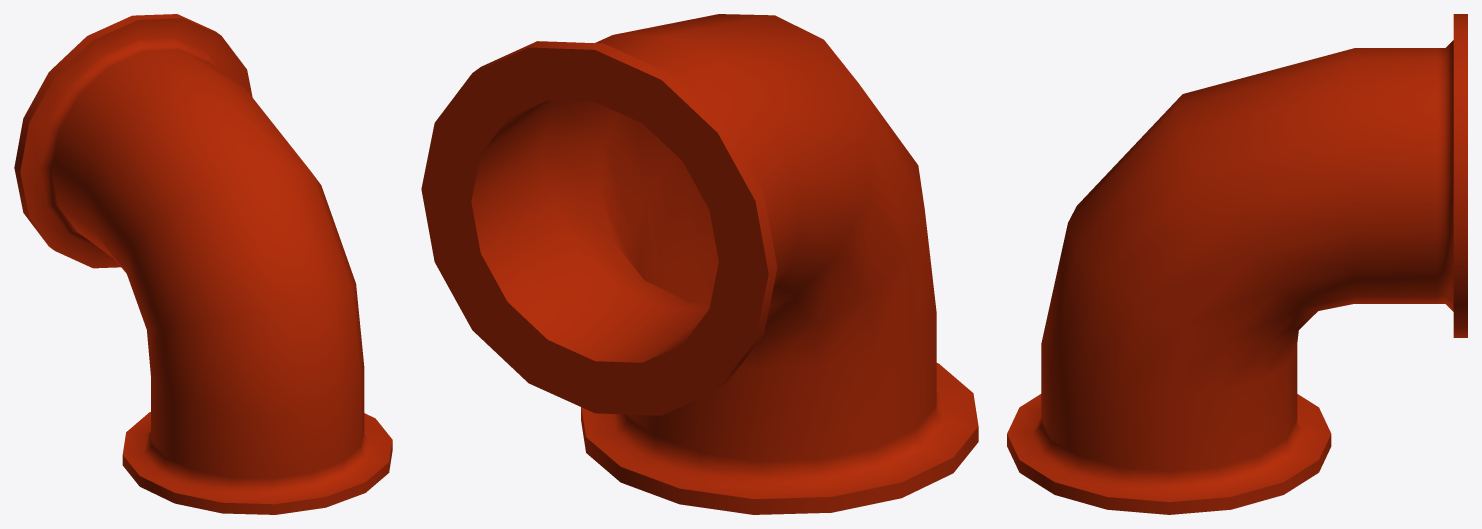
Rendered from Pipe_15.FBX.
The picture shows the model from 3 angles, left to right: view 1: azimuth 30°, elevation 25°; view 2: azimuth 150°, elevation 25°; view 3: azimuth 270°, elevation 25°; orthographic projection. The views are drawn at different scales.
Visible parts, largest first — view 1: Pipe_up1_015_Low; view 2: Pipe_up1_015_Low; view 3: Pipe_up1_015_Low.
Boxes of the visible parts, x1,y1,x2,y2 form: Pipe_up1_015_Low: (14, 14, 392, 514); Pipe_up1_015_Low: (421, 14, 978, 514); Pipe_up1_015_Low: (1007, 14, 1467, 514).
Bounding box in the file's own units: 38 × 53.97 × 54.
